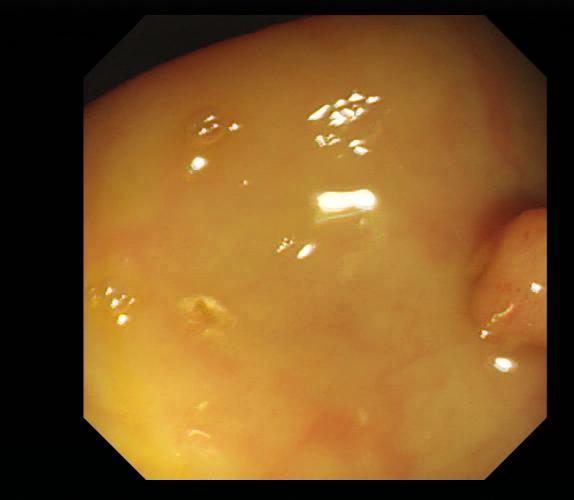polyp: (466, 200, 546, 359)
